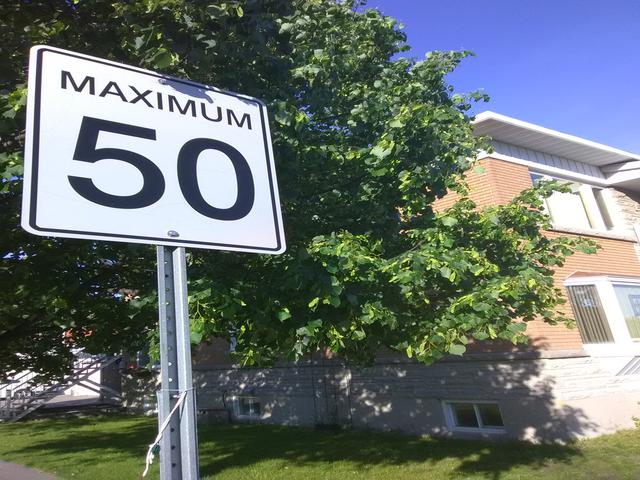vitesse: (20, 42, 294, 257)
